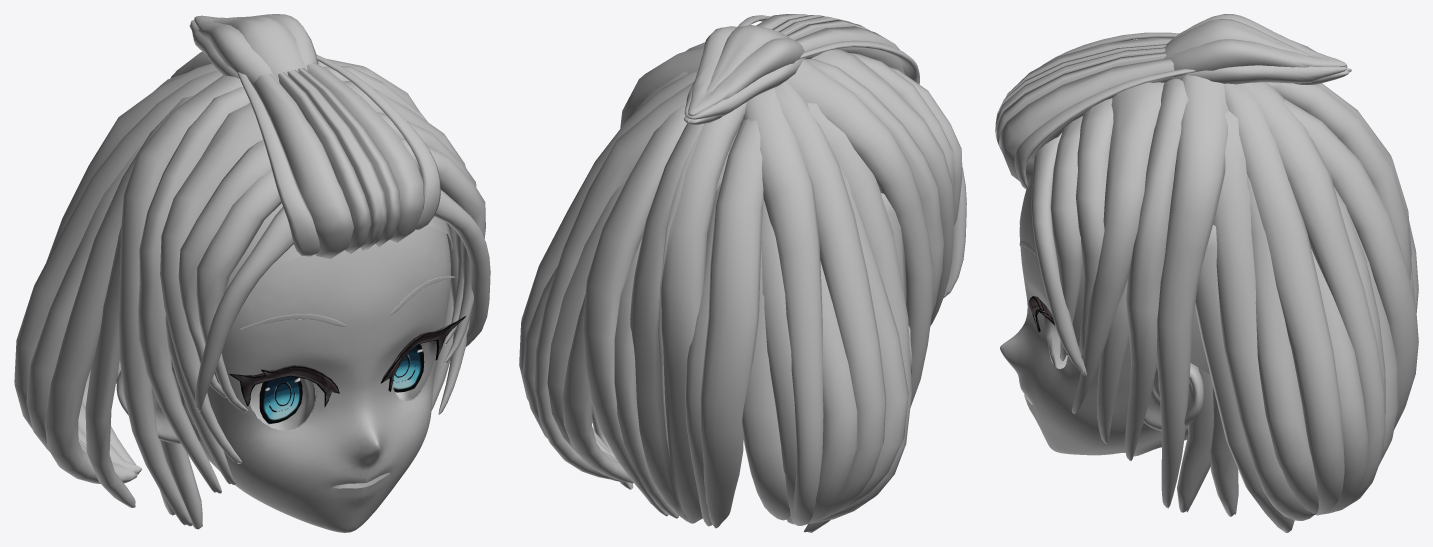
The model's file is female_hair_short.glb.
3 renders of one model, left to right at view 1: azimuth 30°, elevation 25°; view 2: azimuth 150°, elevation 25°; view 3: azimuth 270°, elevation 25°, orthographic. The views are drawn at different scales.
Visible parts, largest first — view 1: face_0, hair_21, hair_5, hair_17, hair_3, hair_10, hair_18, hair_8, hair_16, hair_20, hair_19, hair_1 (+9 smaller); view 2: hair_11, hair_6, hair_15, hair_8, hair_5, hair_14, hair_13, hair_12, hair_19, hair_7, hair_10, hair_9 (+7 smaller); view 3: hair_8, hair_5, face_0, hair_6, hair_21, hair_10, hair_17, hair_3, hair_11, hair_9, hair_19, hair_15 (+12 smaller).
Part boxes in pixels (box(x1,y1,x2,y2)): face_0: box(116, 226, 450, 532); hair_21: box(237, 55, 440, 258); hair_5: box(118, 58, 420, 526); hair_17: box(160, 81, 469, 463); hair_3: box(138, 66, 427, 493); hair_10: box(44, 95, 194, 483); hair_18: box(196, 140, 485, 412); hair_8: box(14, 70, 222, 446); hair_16: box(194, 190, 490, 411); hair_20: box(178, 112, 476, 398); hair_19: box(189, 14, 318, 84); hair_1: box(85, 225, 135, 507); hair_11: box(582, 103, 763, 528); hair_6: box(534, 82, 823, 525); hair_15: box(630, 102, 746, 523); hair_8: box(519, 69, 886, 520); hair_5: box(620, 48, 933, 407); hair_14: box(562, 244, 790, 520); hair_13: box(547, 178, 796, 518); hair_12: box(614, 125, 740, 526); hair_19: box(684, 25, 805, 124); hair_7: box(522, 261, 857, 524); hair_10: box(592, 71, 911, 522); hair_9: box(595, 165, 908, 514); hair_8: box(1224, 83, 1344, 515); hair_5: box(1156, 75, 1228, 508); face_0: box(1000, 185, 1250, 456); hair_6: box(1239, 82, 1385, 513); hair_21: box(995, 32, 1195, 189); hair_10: box(1213, 110, 1315, 520); hair_17: box(1071, 82, 1164, 413); hair_3: box(1125, 38, 1188, 460); hair_11: box(1284, 99, 1418, 429); hair_9: box(1247, 174, 1318, 514); hair_19: box(1164, 14, 1351, 84); hair_15: box(1267, 82, 1411, 280).
Size of the model in its own units: 0.3349 by 0.3984 by 0.3292.
Materials: 31 (2 with a texture image).
